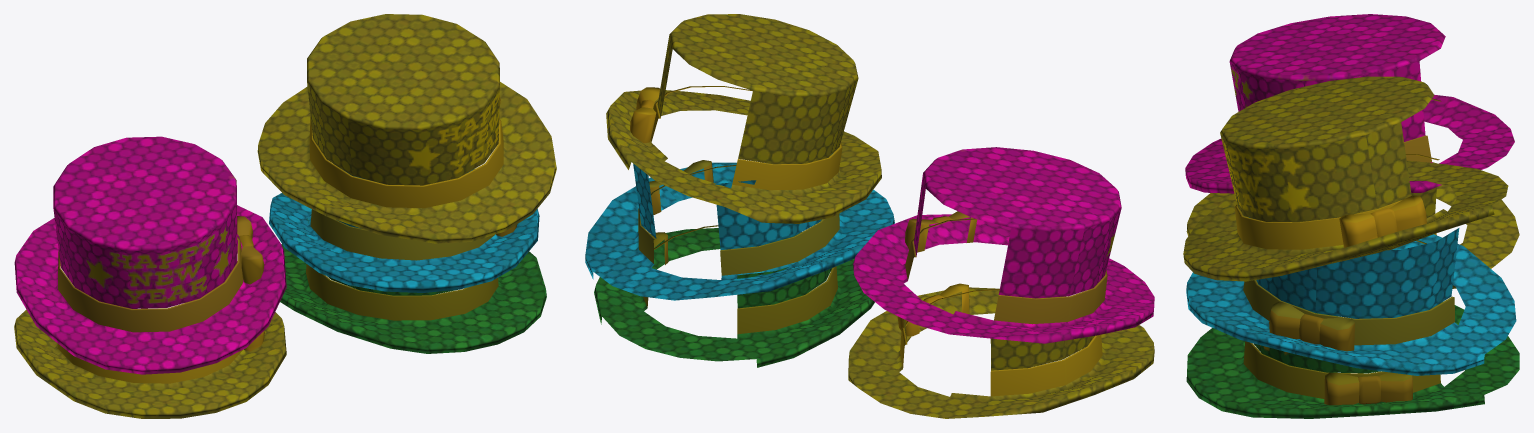
The model's file is EvtobjPartsHatC.glb.
3 views of the same model, side by side, from view 1: azimuth 30°, elevation 25°; view 2: azimuth 150°, elevation 25°; view 3: azimuth 270°, elevation 25° (orthographic). The views are drawn at different scales.
Visible parts, largest first — view 1: polySurface2_1__mHatUnitedC; view 2: polySurface2_1__mHatUnitedC; view 3: polySurface2_1__mHatUnitedC.
Part boxes in pixels (x1=…): polySurface2_1__mHatUnitedC: x1=14, y1=14, x2=556, y2=418; polySurface2_1__mHatUnitedC: x1=585, y1=14, x2=1154, y2=418; polySurface2_1__mHatUnitedC: x1=1183, y1=14, x2=1519, y2=418.
Size of the model in its own units: 14.68 by 7.18 by 7.94.
1 material, 1 textured.
